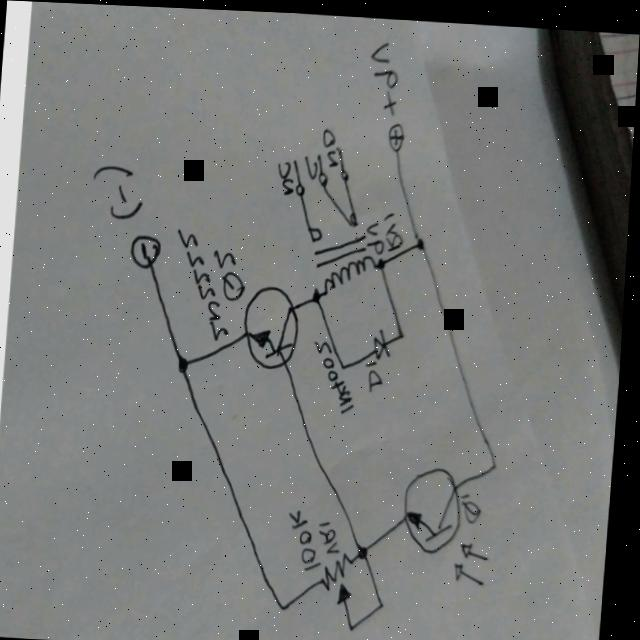diode: (372, 324, 397, 358)
junction: (181, 355, 193, 372), (313, 285, 326, 300), (416, 233, 429, 246), (398, 324, 410, 337), (376, 256, 389, 268), (362, 544, 374, 556), (342, 358, 354, 370), (353, 618, 366, 629), (381, 596, 393, 607), (283, 601, 296, 611), (493, 456, 505, 466)
resistor: (321, 545, 363, 606)
terminal: (128, 232, 167, 268), (385, 120, 411, 149), (289, 153, 301, 164), (334, 141, 346, 152), (313, 149, 326, 159)
text: (173, 227, 238, 340), (90, 161, 152, 225), (289, 505, 349, 570), (312, 337, 364, 412), (365, 37, 402, 112), (211, 247, 253, 299), (366, 207, 409, 252), (320, 125, 343, 165), (463, 488, 490, 520), (276, 157, 299, 192), (366, 358, 390, 389), (303, 152, 320, 177)
transistor: (401, 459, 503, 583), (242, 280, 307, 370)
